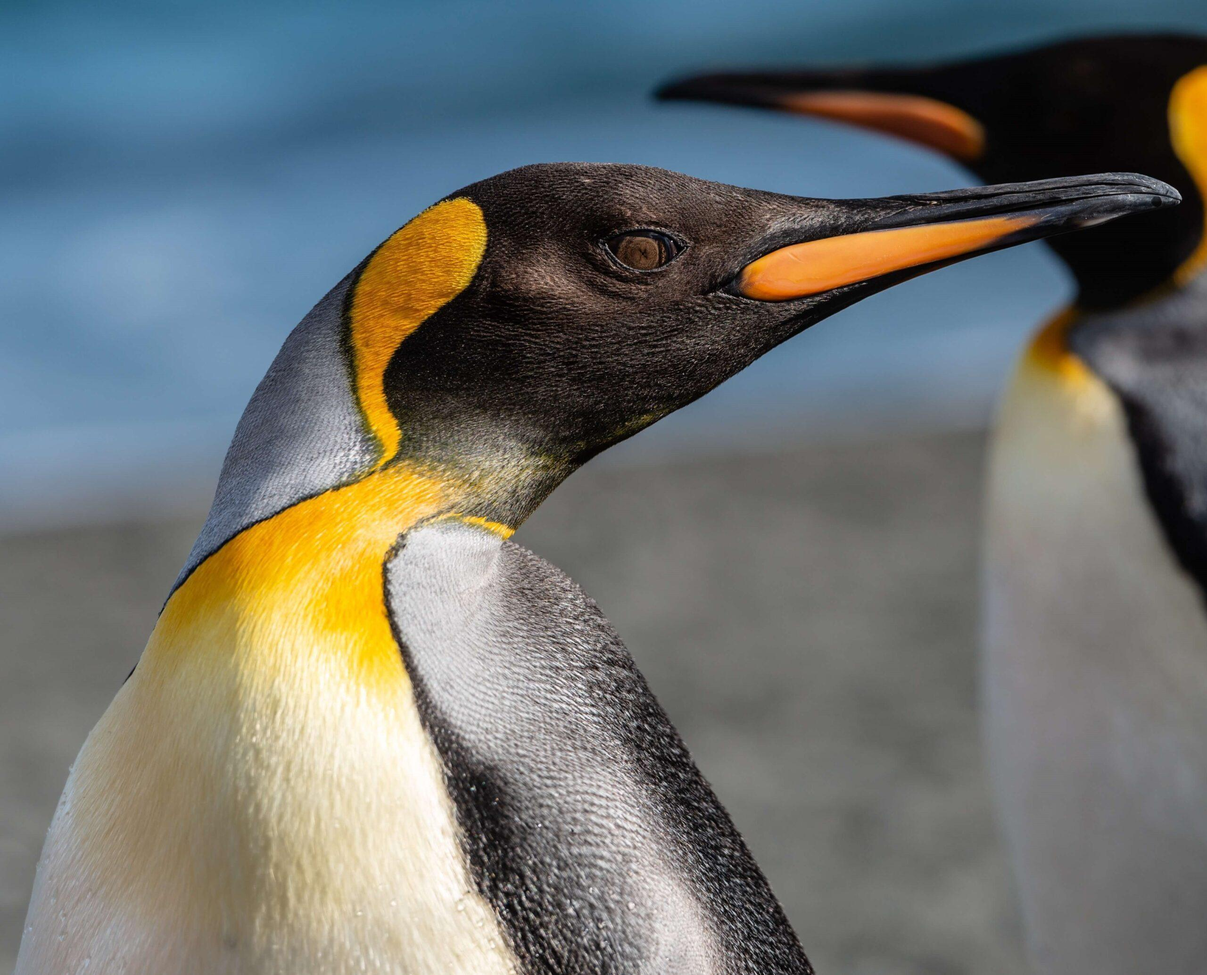Penguin: (19, 163, 1179, 971), (660, 33, 1207, 971)
